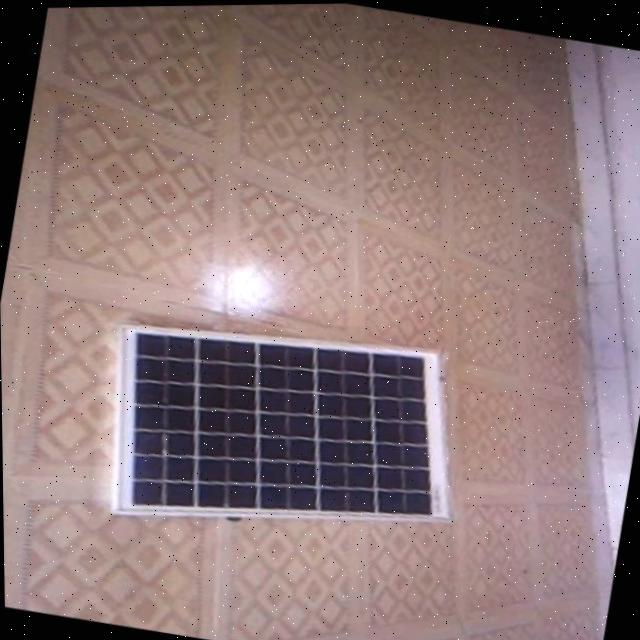Normal Solar Panel: (91, 297, 477, 568)
